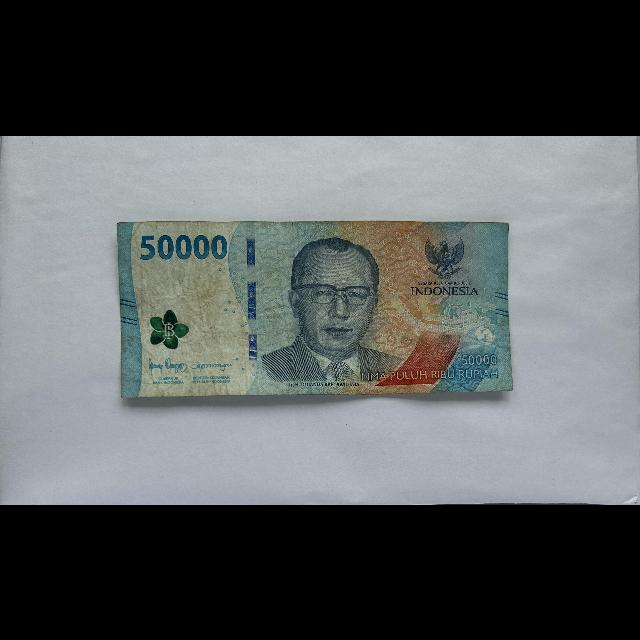Asli-50k: (115, 218, 515, 399)
Tinta-Asli-50k: (150, 307, 191, 349)
